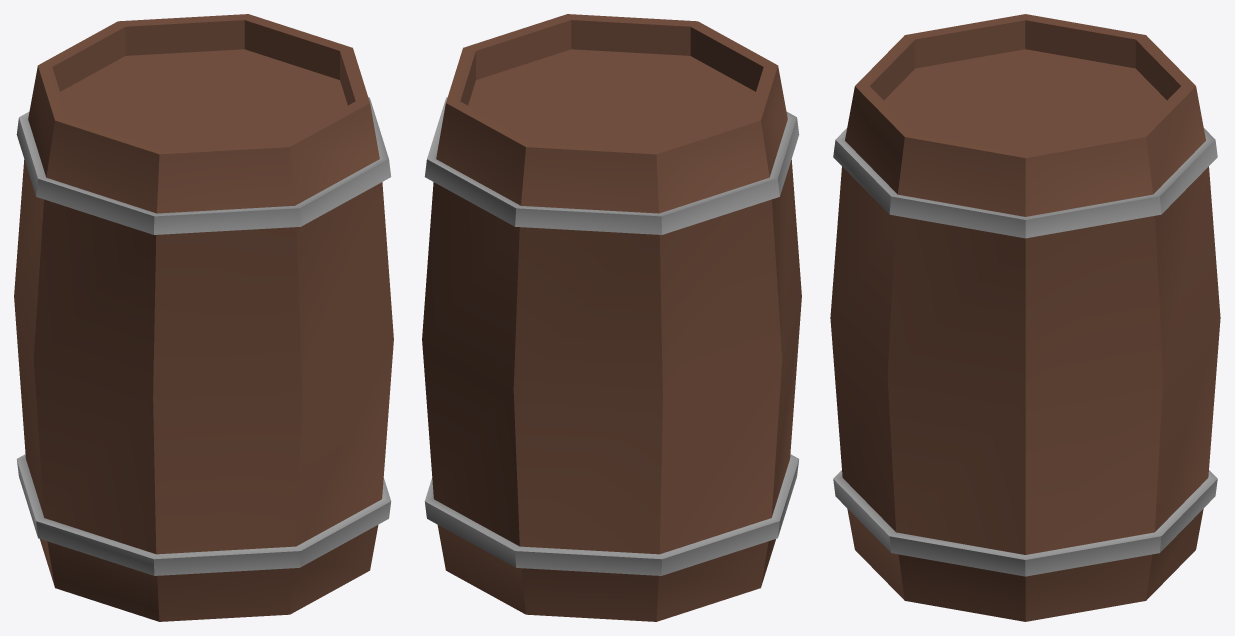
File: Barrel.fbx
3 renders of one model, left to right at view 1: azimuth 30°, elevation 25°; view 2: azimuth 150°, elevation 25°; view 3: azimuth 270°, elevation 25°, orthographic.
Visible parts, largest first — view 1: Barrel; view 2: Barrel; view 3: Barrel.
Boxes of the visible parts, box(x1,y1,x2,y2) form: Barrel: box(14, 14, 393, 621); Barrel: box(422, 14, 801, 621); Barrel: box(830, 14, 1220, 621).
Size of the model in its own units: 45.74 by 60 by 45.74.
